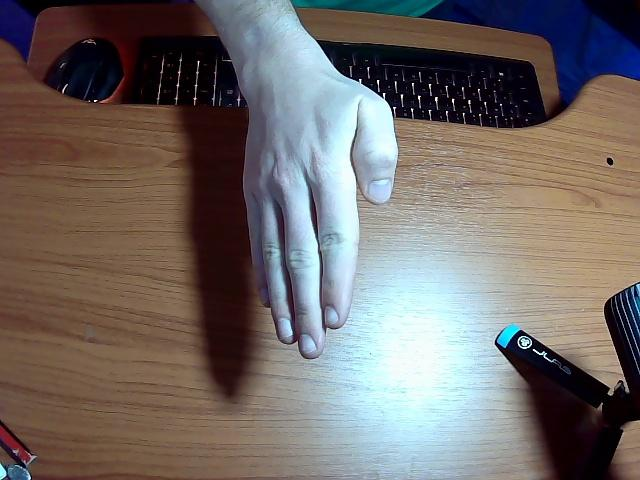paper: (199, 0, 398, 358)
